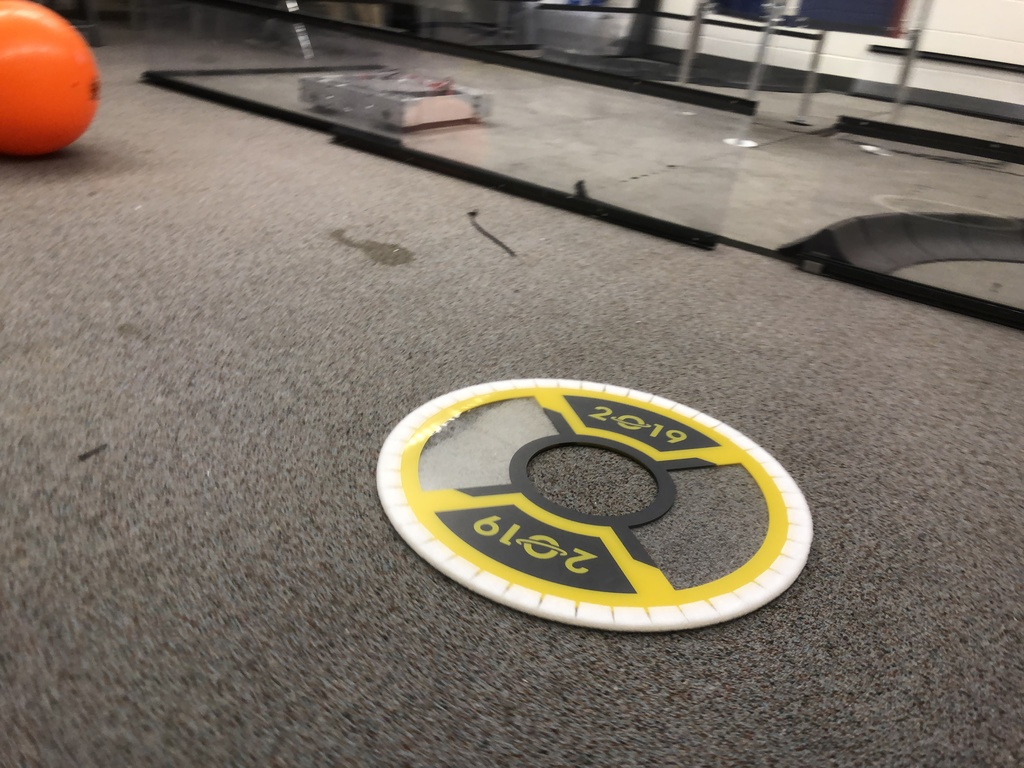hatch_panel: (358, 371, 828, 646)
